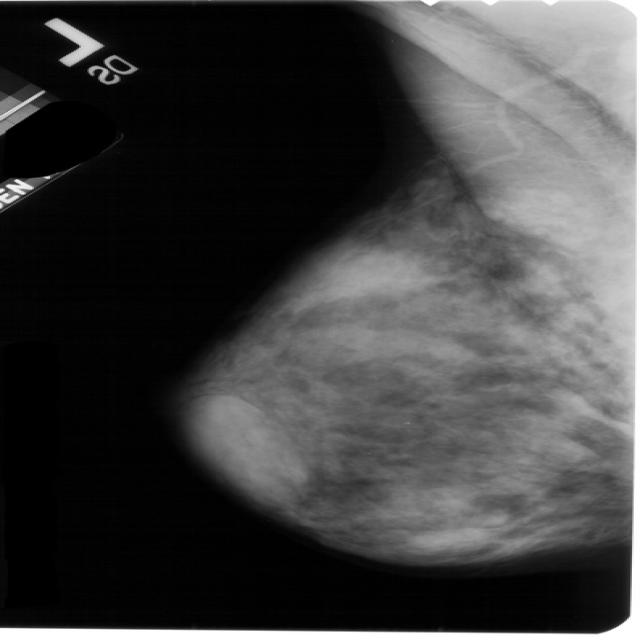tumour: (179, 394, 305, 502)
